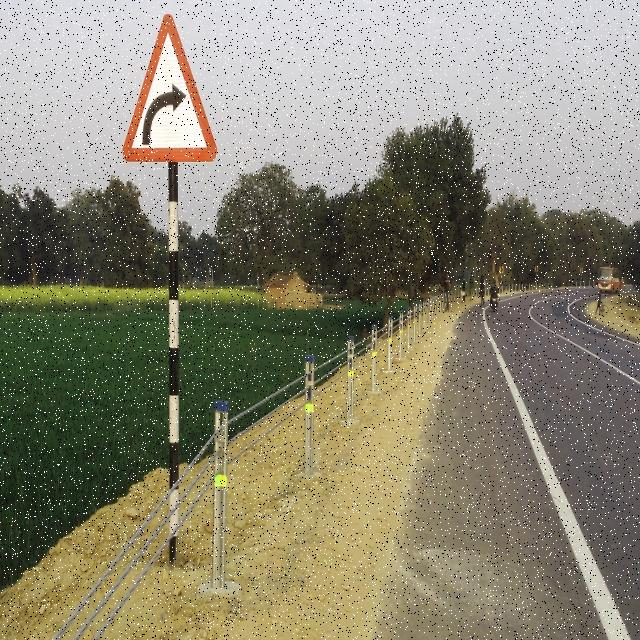Righthand_curve: (118, 12, 223, 166)
